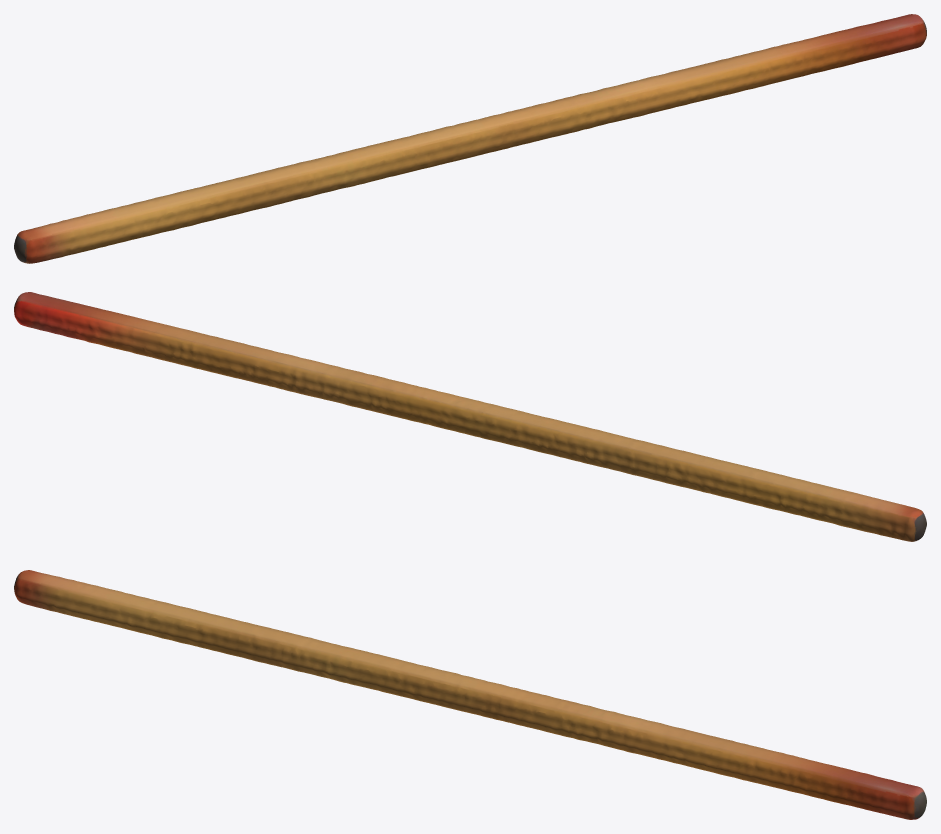
The model's file is philosophy_agora.glb.
The picture shows the model from 3 angles, top to bottom: view 1: azimuth 30°, elevation 25°; view 2: azimuth 150°, elevation 25°; view 3: azimuth 330°, elevation 25°; orthographic projection.
Visible parts, largest first — view 1: tripo_node_eb9e2723-6779-4ddc-bb77-b2d62d3e5777; view 2: tripo_node_eb9e2723-6779-4ddc-bb77-b2d62d3e5777; view 3: tripo_node_eb9e2723-6779-4ddc-bb77-b2d62d3e5777.
Part boxes in pixels (x1=…): tripo_node_eb9e2723-6779-4ddc-bb77-b2d62d3e5777: x1=14, y1=14, x2=926, y2=263; tripo_node_eb9e2723-6779-4ddc-bb77-b2d62d3e5777: x1=14, y1=292, x2=926, y2=541; tripo_node_eb9e2723-6779-4ddc-bb77-b2d62d3e5777: x1=14, y1=570, x2=926, y2=819.
Size of the model in its own units: 0.9476 by 0.0316 by 0.0295.
Materials: 1 (1 with a texture image).
